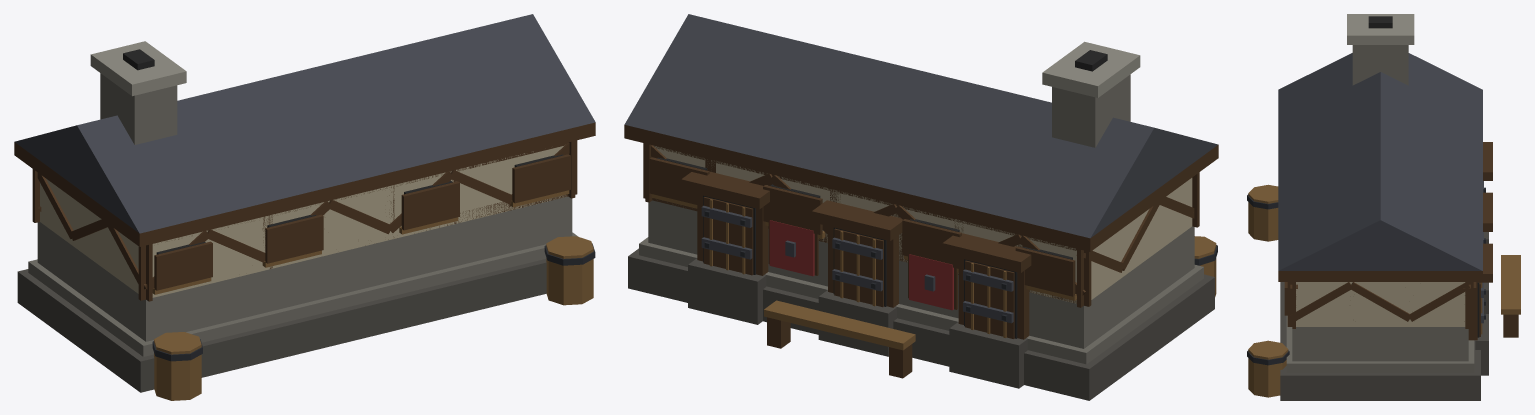
File: barracks.glb
3 views of the same model, side by side, from view 1: azimuth 30°, elevation 25°; view 2: azimuth 150°, elevation 25°; view 3: azimuth 270°, elevation 25° (orthographic). The views are drawn at different scales.
Visible parts, largest first — view 1: roof_slate, stone, timber, stone_dark, plaster, timber_light, stone_light, soot, iron_dark; view 2: roof_slate, timber, stone_dark, stone, plaster, timber_light, cloth, iron, stone_light, soot, iron_dark; view 3: roof_slate, stone, stone_dark, timber, plaster, timber_light, stone_light, iron_dark, soot.
Boxes of the visible parts, x1,y1,x2,y2 form: roof_slate: [14, 14, 595, 233]; stone: [28, 73, 578, 356]; timber: [14, 122, 595, 301]; stone_dark: [17, 259, 546, 392]; plaster: [40, 145, 566, 297]; timber_light: [152, 190, 593, 400]; stone_light: [90, 41, 186, 96]; soot: [123, 49, 563, 254]; iron_dark: [152, 243, 595, 361]; roof_slate: [624, 14, 1218, 238]; timber: [624, 124, 1218, 378]; stone_dark: [628, 248, 1214, 400]; stone: [639, 74, 1203, 364]; plaster: [653, 145, 1192, 303]; timber_light: [651, 194, 1216, 350]; cloth: [769, 220, 953, 310]; iron: [701, 205, 1013, 323]; stone_light: [1042, 41, 1140, 97]; soot: [657, 50, 1107, 338]; iron_dark: [704, 210, 1217, 320]; roof_slate: [1278, 53, 1482, 270]; stone: [1286, 45, 1474, 372]; stone_dark: [1280, 232, 1488, 400]; timber: [1278, 142, 1518, 340]; plaster: [1296, 282, 1465, 326]; timber_light: [1248, 184, 1520, 397]; stone_light: [1347, 14, 1414, 44]; iron_dark: [1247, 187, 1485, 365]; soot: [1368, 16, 1479, 337].
Size of the model in its own units: 107 by 62 by 68.3.
